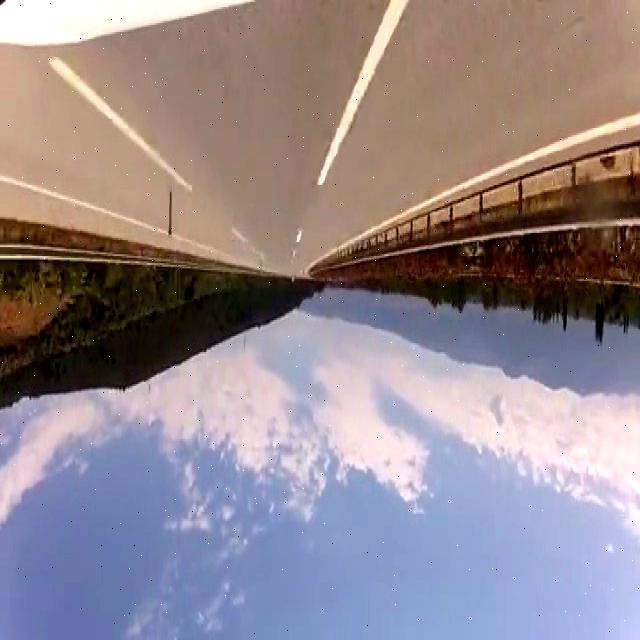lane: (339, 112, 639, 248), (50, 57, 192, 190), (318, 2, 408, 185), (0, 174, 166, 232), (175, 234, 220, 252)
road: (1, 4, 640, 276)
